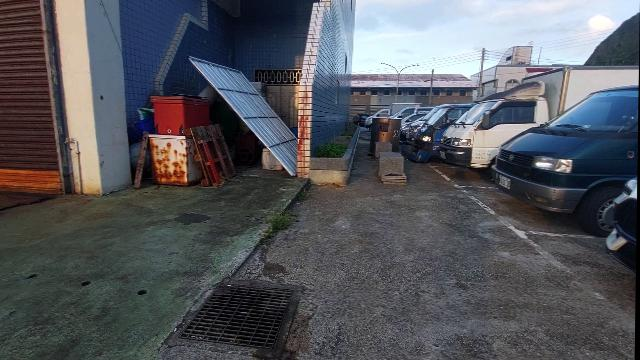pollute: (186, 124, 238, 187), (149, 134, 199, 185), (152, 95, 211, 134), (129, 108, 156, 144), (136, 131, 149, 188), (237, 130, 256, 165), (261, 146, 284, 170), (130, 143, 141, 169)
